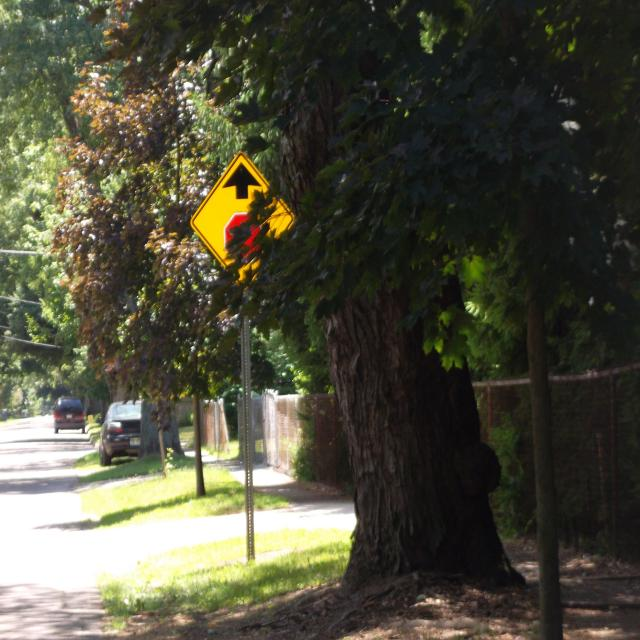stop: (222, 212, 266, 264)
warning: (190, 150, 294, 286)
